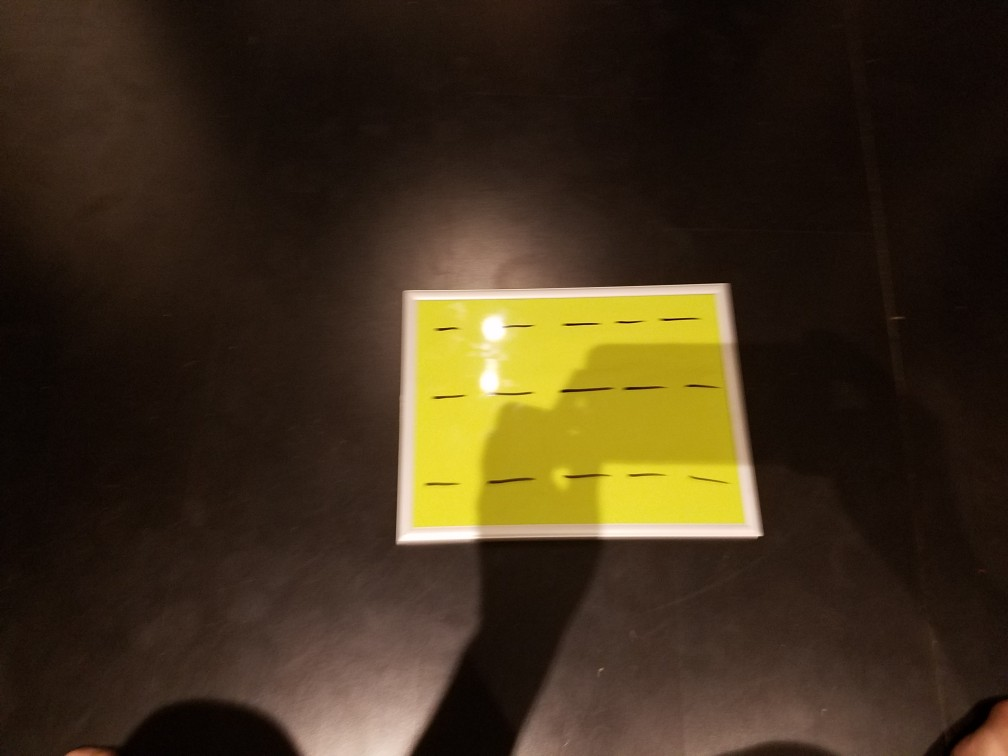-: (554, 458, 611, 493), (685, 463, 735, 501), (481, 381, 540, 412), (556, 374, 611, 407), (626, 458, 673, 491), (480, 464, 535, 492), (618, 375, 668, 404), (651, 303, 700, 332), (415, 466, 459, 497), (676, 374, 718, 399), (606, 306, 642, 333), (427, 383, 465, 407), (559, 313, 600, 335), (497, 317, 540, 336), (428, 318, 463, 339)
